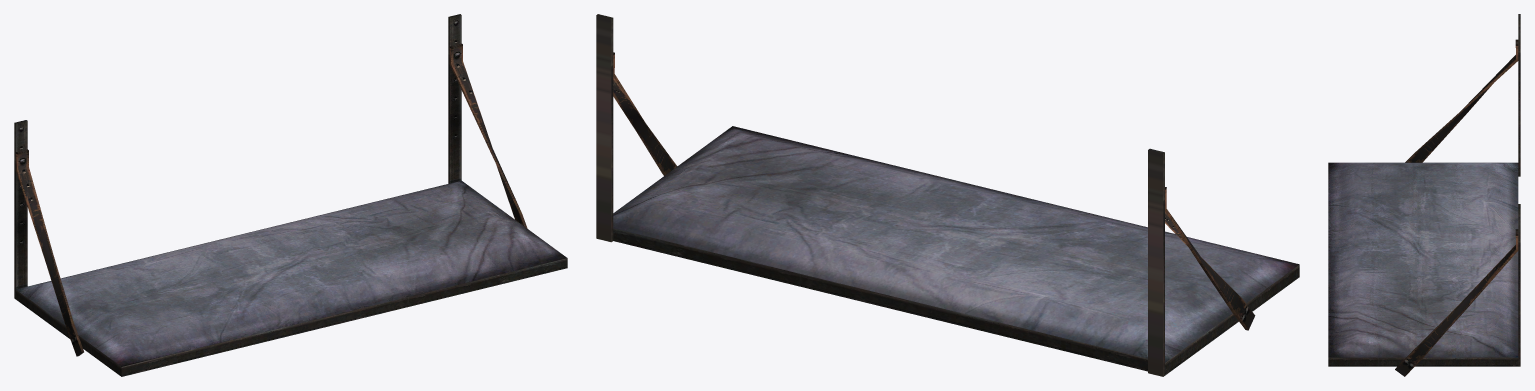
File: bed_g.fbx
3 renders of one model, left to right at view 1: azimuth 30°, elevation 25°; view 2: azimuth 150°, elevation 25°; view 3: azimuth 270°, elevation 25°, orthographic. The views are drawn at different scales.
Visible parts, largest first — view 1: bed_g; view 2: bed_g; view 3: bed_g.
Part boxes in pixels (x1=…): bed_g: x1=14, y1=14, x2=567, y2=376; bed_g: x1=596, y1=14, x2=1299, y2=376; bed_g: x1=1328, y1=14, x2=1520, y2=376.
Bounding box in the file's own units: 150 × 59.3 × 62.
